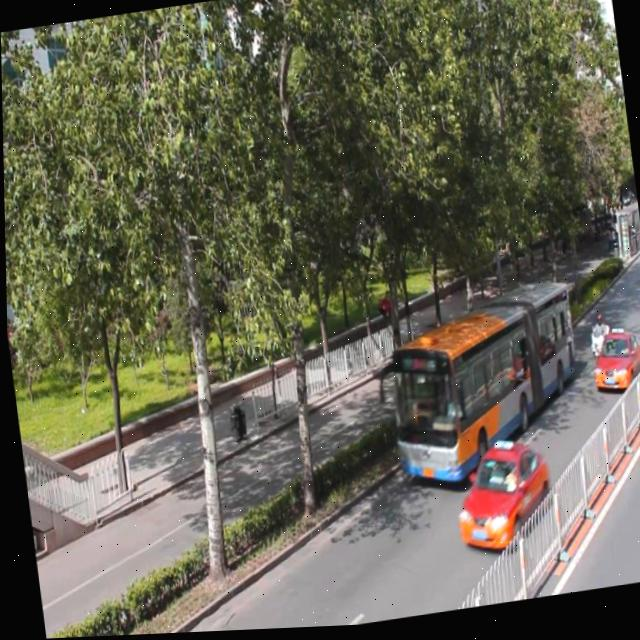car: (445, 438, 553, 559), (585, 330, 640, 399)
van: (378, 279, 585, 493)
